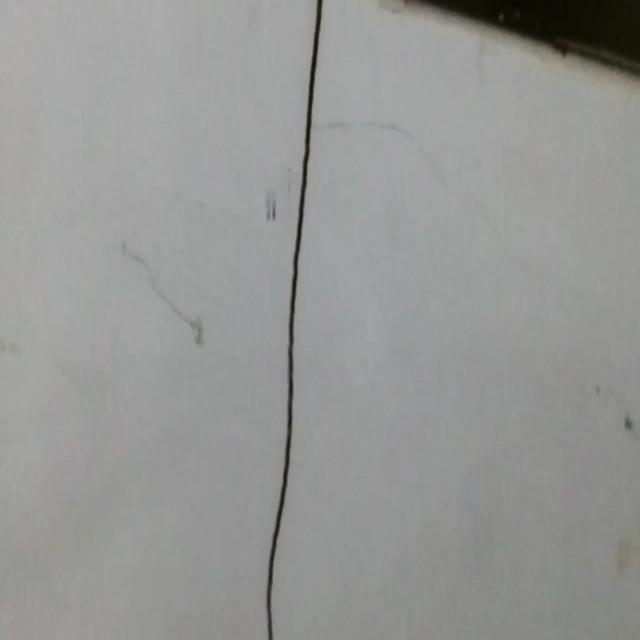Crack: (256, 0, 340, 640), (322, 82, 572, 274)
